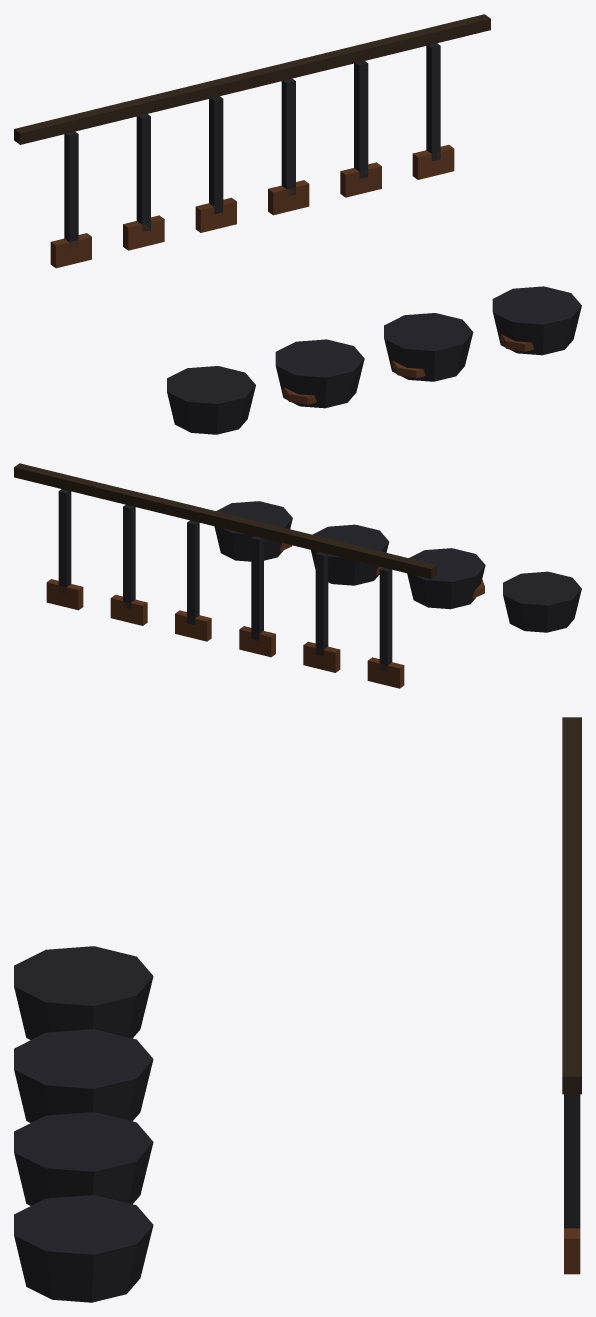
Rendered from village_goods_iron.glb.
The picture shows the model from 3 angles, top to bottom: view 1: azimuth 30°, elevation 25°; view 2: azimuth 150°, elevation 25°; view 3: azimuth 270°, elevation 25°; orthographic projection. The views are drawn at different scales.
Visible parts, largest first — view 1: village_goods_iron; view 2: village_goods_iron; view 3: village_goods_iron.
Part boxes in pixels (x1,y1,x2,y2): village_goods_iron: [14, 14, 581, 434]; village_goods_iron: [14, 463, 581, 688]; village_goods_iron: [14, 717, 581, 1302].
Bounding box in the file's own units: 2.62 × 0.96 × 1.74.
